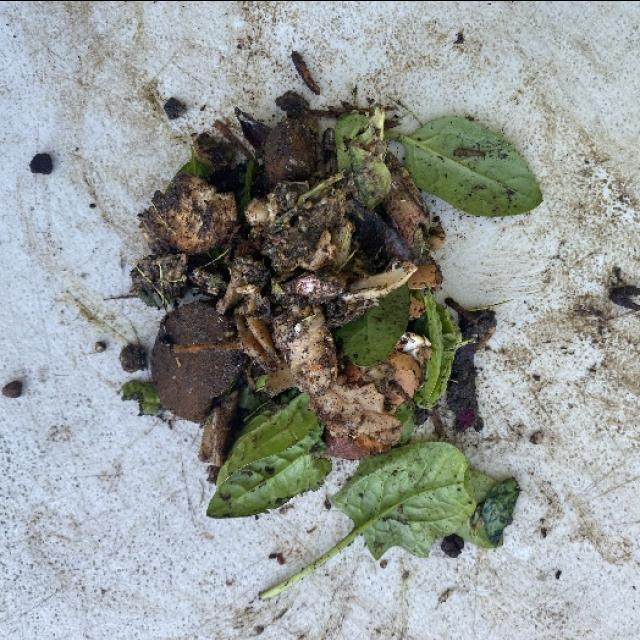organik: (146, 104, 534, 570)
